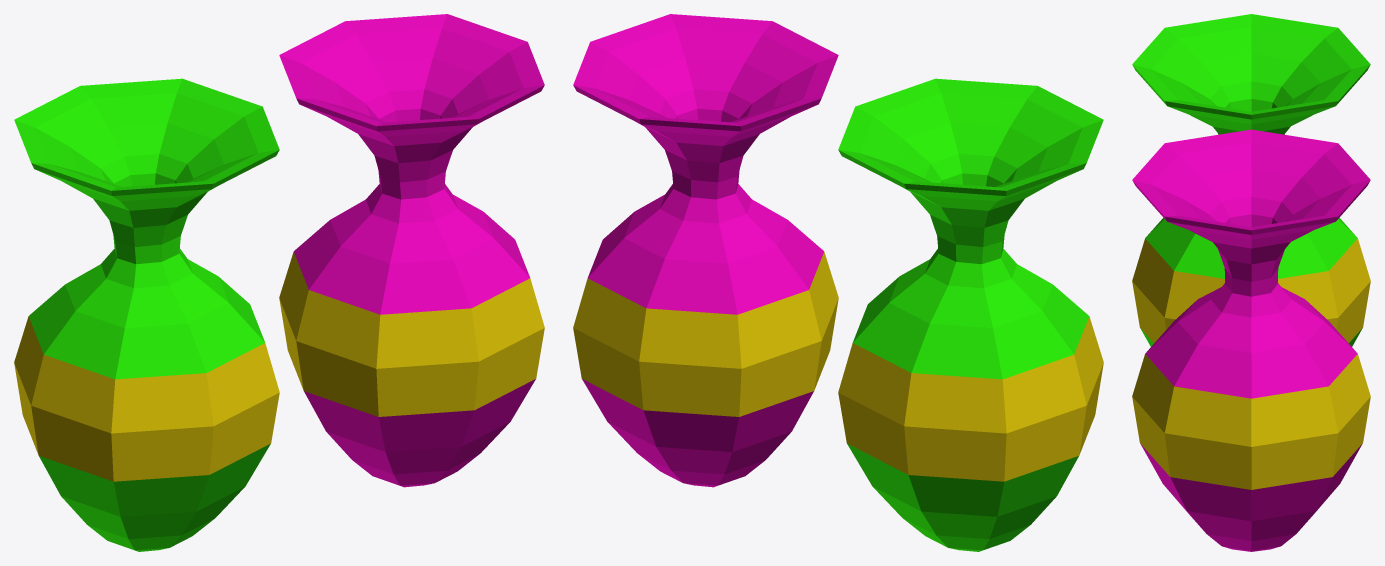
Rendered from pot.fbx.
3 views of the same model, side by side, from view 1: azimuth 30°, elevation 25°; view 2: azimuth 150°, elevation 25°; view 3: azimuth 270°, elevation 25° (orthographic). The views are drawn at different scales.
Parts seen in each view (by area): view 1: Cube, Cube.004; view 2: Cube, Cube.004; view 3: Cube, Cube.004.
Boxes of the visible parts, left/top/right/bottom form: Cube: left=279, top=14, right=544, bottom=487; Cube.004: left=14, top=78, right=279, bottom=551; Cube: left=573, top=14, right=838, bottom=487; Cube.004: left=838, top=78, right=1103, bottom=551; Cube: left=1132, top=129, right=1370, bottom=551; Cube.004: left=1132, top=14, right=1370, bottom=346.
Size of the model in its own units: 557 by 439 by 260.
